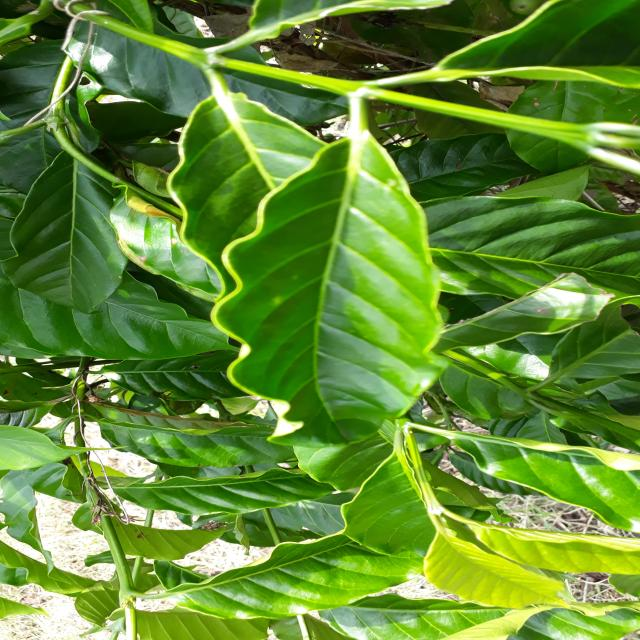Sanas: (210, 132, 445, 446)
